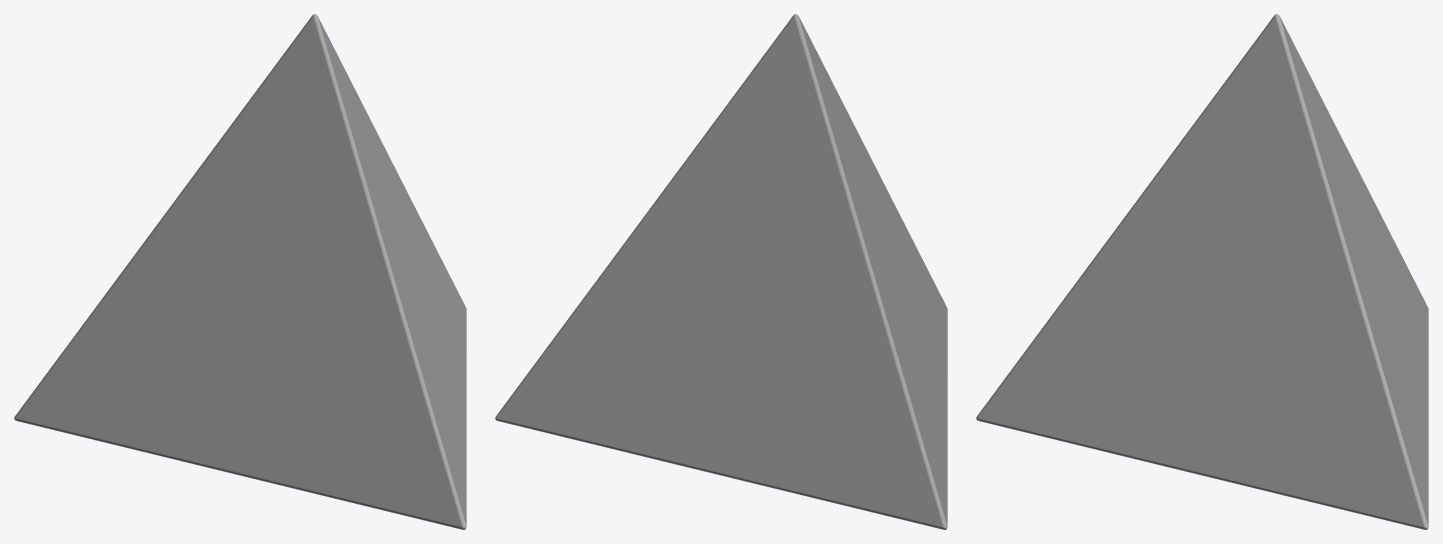
3 renders of one model, left to right at view 1: azimuth 30°, elevation 25°; view 2: azimuth 150°, elevation 25°; view 3: azimuth 270°, elevation 25°, orthographic.
Visible parts, largest first — view 1: tetrahedron.1; view 2: tetrahedron.1; view 3: tetrahedron.1.
Boxes of the visible parts, x1=… form: tetrahedron.1: x1=14, y1=14, x2=466, y2=529; tetrahedron.1: x1=495, y1=14, x2=947, y2=529; tetrahedron.1: x1=976, y1=14, x2=1428, y2=529.
Size of the model in its own units: 0.1622 by 0.1396 by 0.1407.
1 material, 1 textured.
